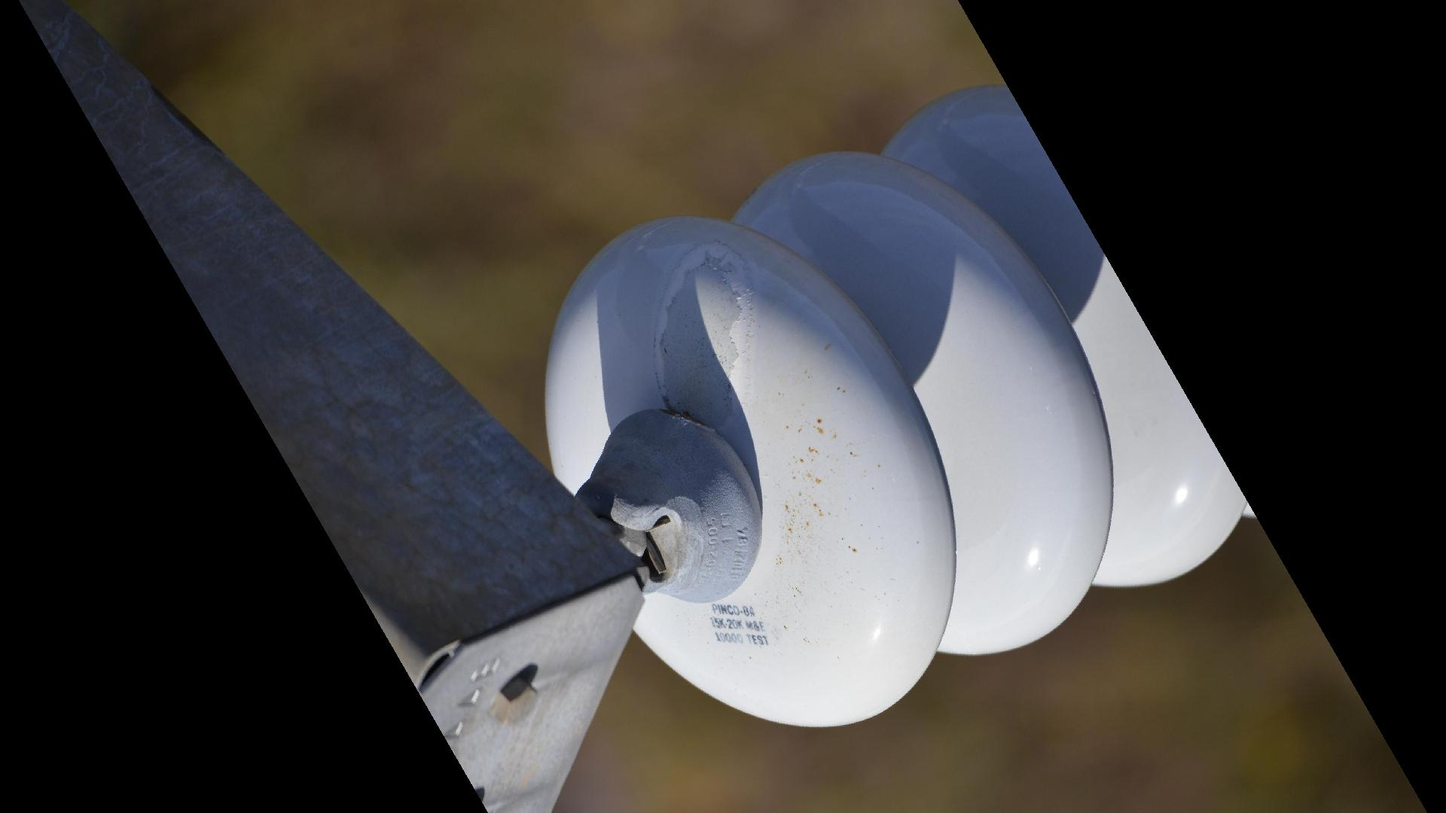insulator: (534, 78, 1266, 738)
insulator_flashover: (647, 236, 763, 421)
